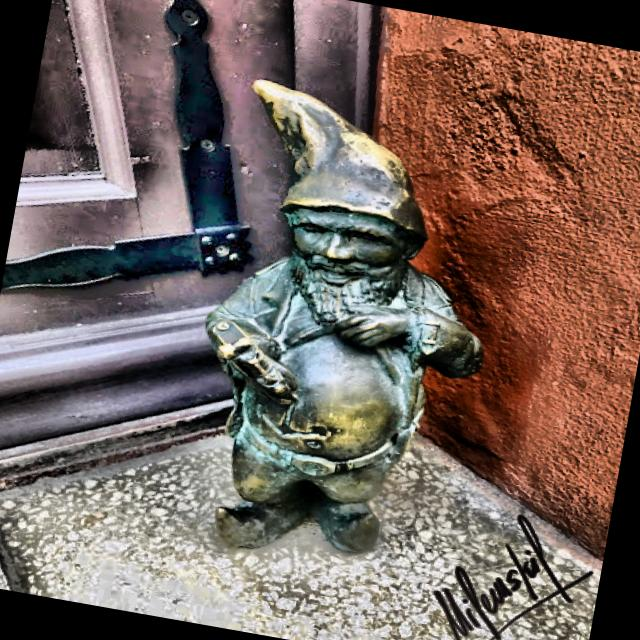TatuazystaKonstanty: (206, 80, 482, 552)
